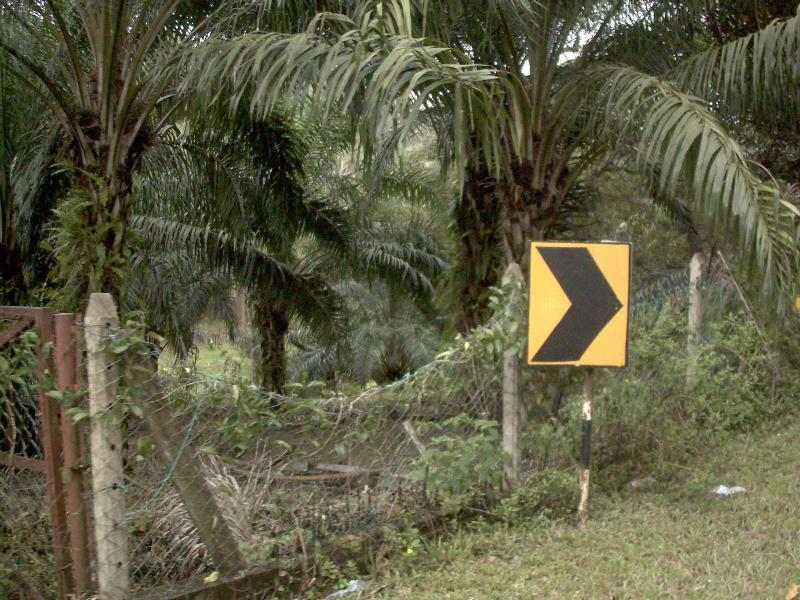traffic_sign: (513, 223, 643, 386)
